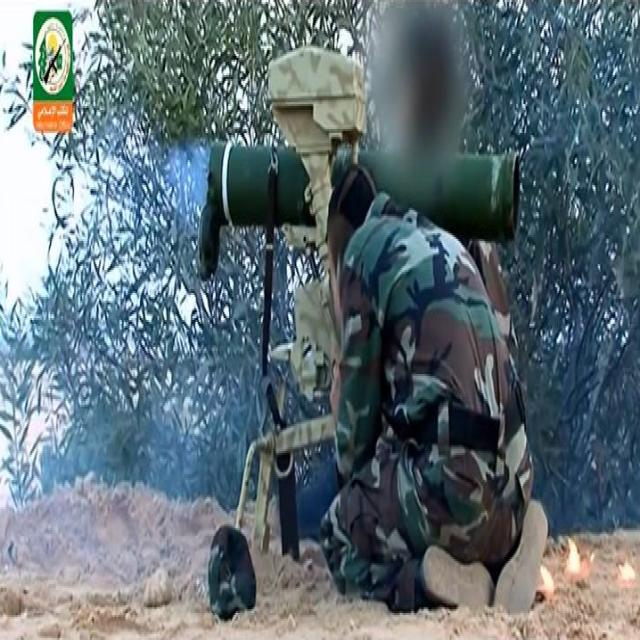bazooka: (186, 128, 526, 301)
